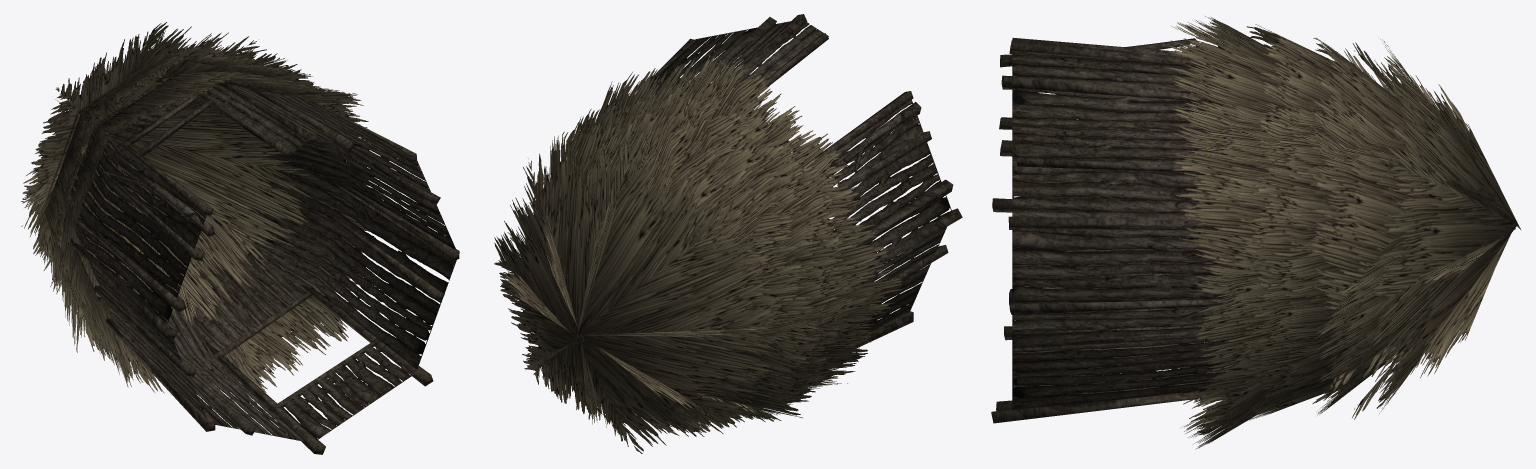
Rendered from MEP_Shack_06.fbx.
3 views of the same model, side by side, from view 1: azimuth 30°, elevation 25°; view 2: azimuth 150°, elevation 25°; view 3: azimuth 270°, elevation 25° (orthographic). The views are drawn at different scales.
Parts seen in each view (by area): view 1: MEP_Shack_06; view 2: MEP_Shack_06; view 3: MEP_Shack_06.
Part boxes in pixels (left/top/right/bottom): MEP_Shack_06: left=21, top=22, right=459, bottom=454; MEP_Shack_06: left=494, top=14, right=962, bottom=453; MEP_Shack_06: left=991, top=16, right=1521, bottom=449.
Size of the model in its own units: 6.56 by 6.43 by 7.68.
